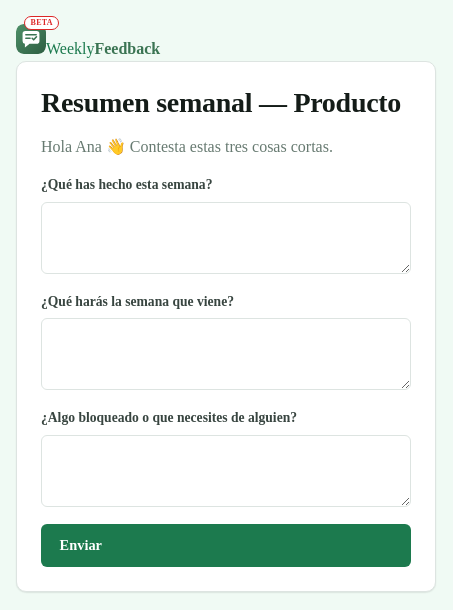
Test: CheckinFormPage › enviar: manda los tres campos y muestra el agradecimiento
Expected: the text "¿Qué has hecho esta semana?" is shown, top-left (41, 175), bottom-right (411, 274)
In the text box labelled "¿Qué has hecho esta semana?": (226, 238) top-left (41, 202), bottom-right (411, 274), type "Terminé la migración"
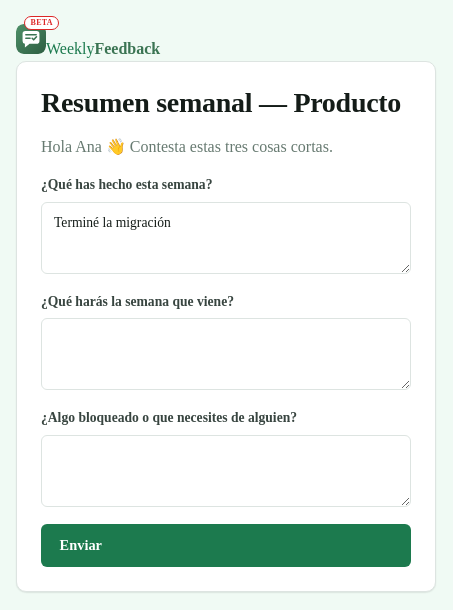
In the text box labelled "¿Qué harás la semana que viene?": (226, 354) top-left (41, 318), bottom-right (411, 390), type "Empezar el siguiente módulo"
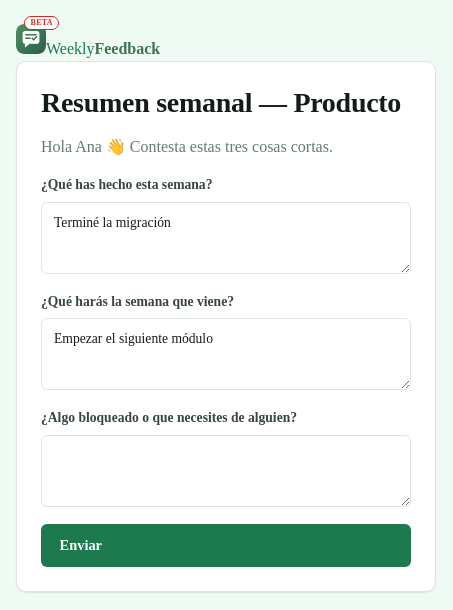
Click the button "Enviar": (81, 545) top-left (41, 524), bottom-right (411, 567)
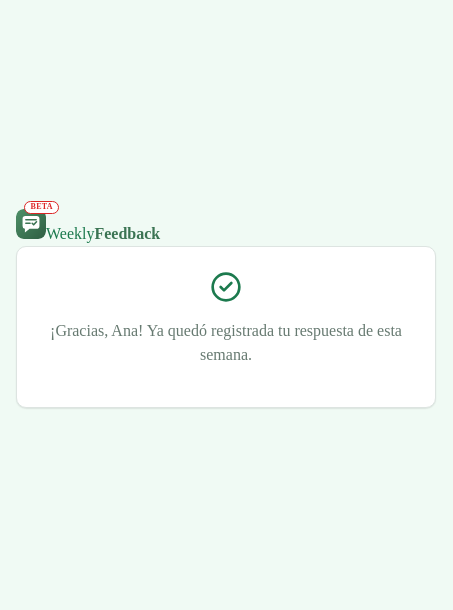
Now the text "¡Gracias, Ana!" is shown, box top-left (50, 322), bottom-right (402, 362)
